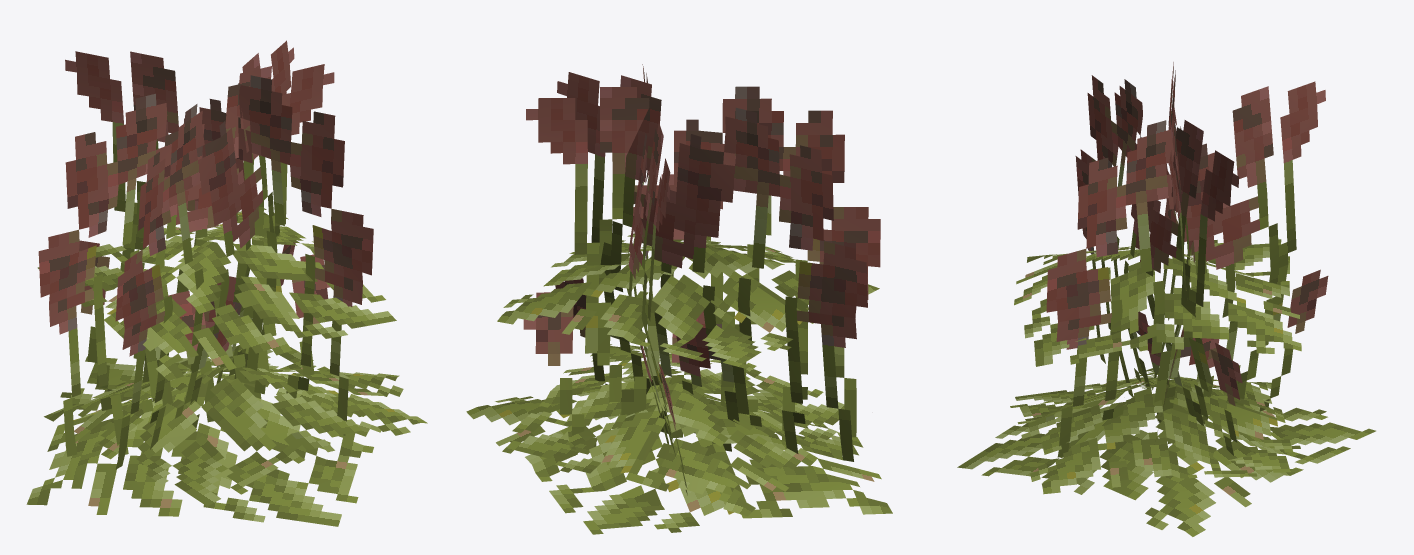
Rendered from flower_red.glb.
The picture shows the model from 3 angles, left to right: view 1: azimuth 30°, elevation 25°; view 2: azimuth 150°, elevation 25°; view 3: azimuth 270°, elevation 25°; orthographic projection. The views are drawn at different scales.
Visible parts, largest first — view 1: flower_red; view 2: flower_red; view 3: flower_red.
Part boxes in pixels (left/top/right/bottom): flower_red: left=26, top=40, right=427, bottom=526; flower_red: left=466, top=64, right=892, bottom=534; flower_red: left=957, top=62, right=1375, bottom=536.
Size of the model in its own units: 0.8847 by 0.7712 by 0.8874.
Materials: 1 (1 with a texture image).
